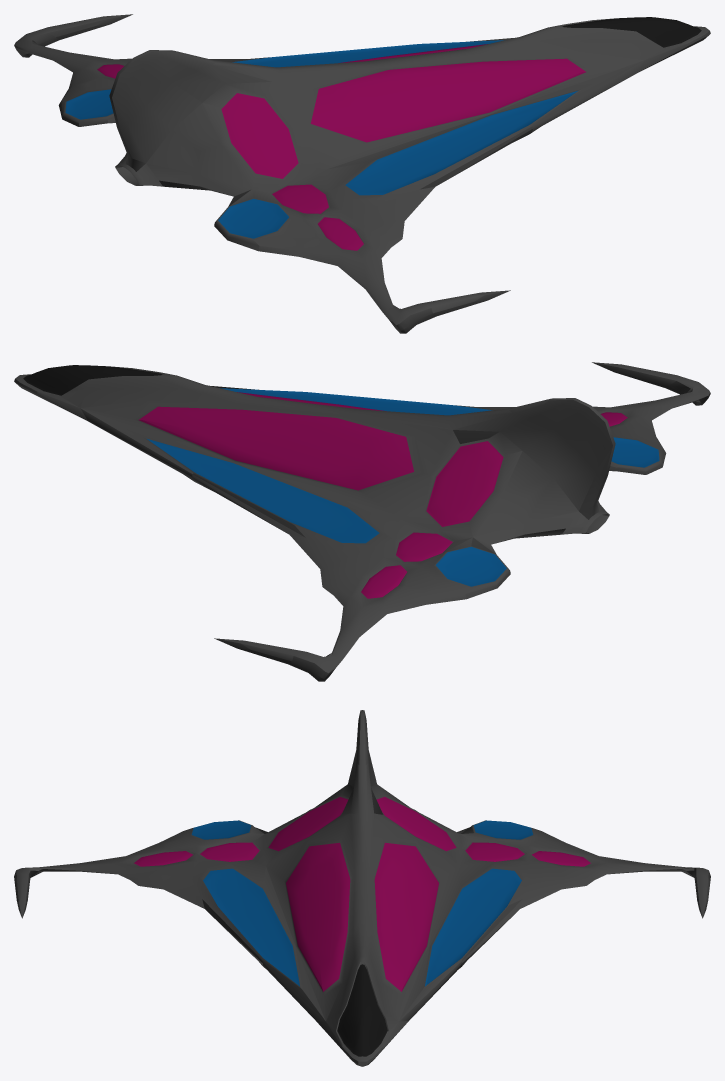
The model's file is ASF-MP.obj.
3 renders of one model, top to bottom at view 1: azimuth 30°, elevation 25°; view 2: azimuth 150°, elevation 25°; view 3: azimuth 270°, elevation 25°, orthographic. The views are drawn at different scales.
Parts seen in each view (by area): view 1: g0; view 2: g0; view 3: g0.
Part boxes in pixels (box(x1,y1,x2,y2)): g0: box(14, 14, 710, 333); g0: box(14, 362, 710, 681); g0: box(14, 710, 710, 1066).
Size of the model in its own units: 9.38 by 2.4 by 10.5.
